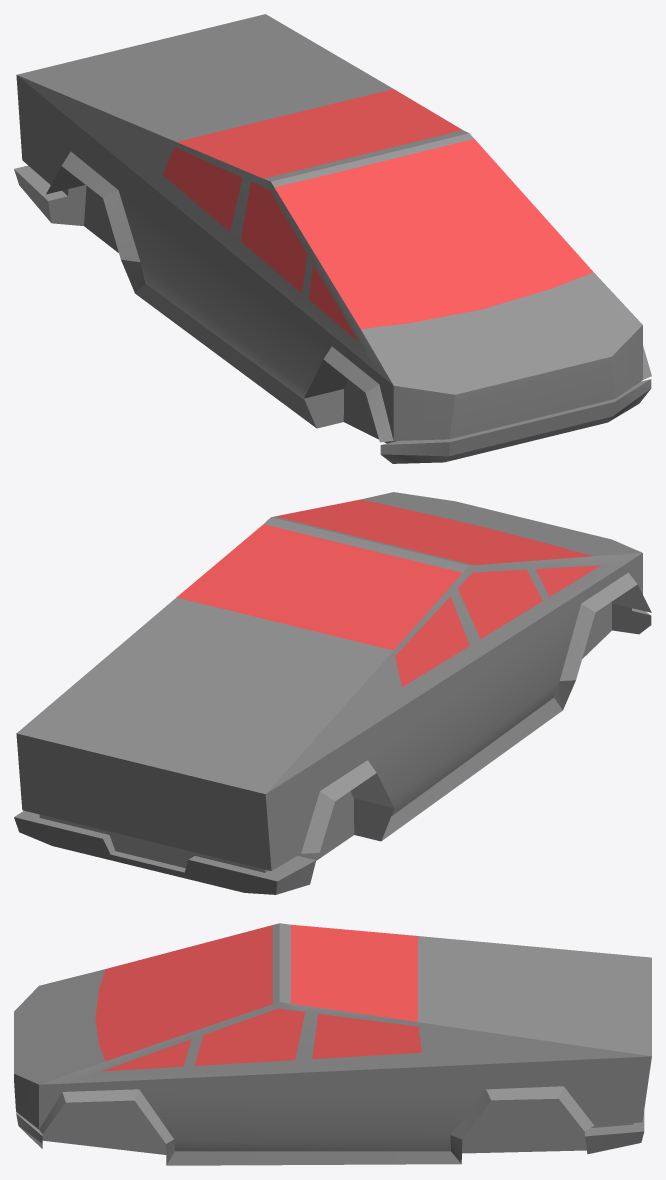
The model's file is Cyber.DAE.
3 views of the same model, one above another, from view 1: azimuth 30°, elevation 25°; view 2: azimuth 150°, elevation 25°; view 3: azimuth 270°, elevation 25° (orthographic). The views are drawn at different scales.
Visible parts, largest first — view 1: Cyber_Chassis, Cyber_Windows; view 2: Cyber_Chassis, Cyber_Windows; view 3: Cyber_Chassis, Cyber_Windows.
Boxes of the visible parts, x1,y1,x2,y2 form: Cyber_Chassis: (14, 14, 651, 463); Cyber_Windows: (163, 89, 593, 342); Cyber_Chassis: (14, 492, 651, 894); Cyber_Windows: (176, 499, 600, 686); Cyber_Chassis: (14, 923, 651, 1165); Cyber_Windows: (95, 924, 421, 1071).
Bounding box in the file's own units: 382 × 949 × 258.
